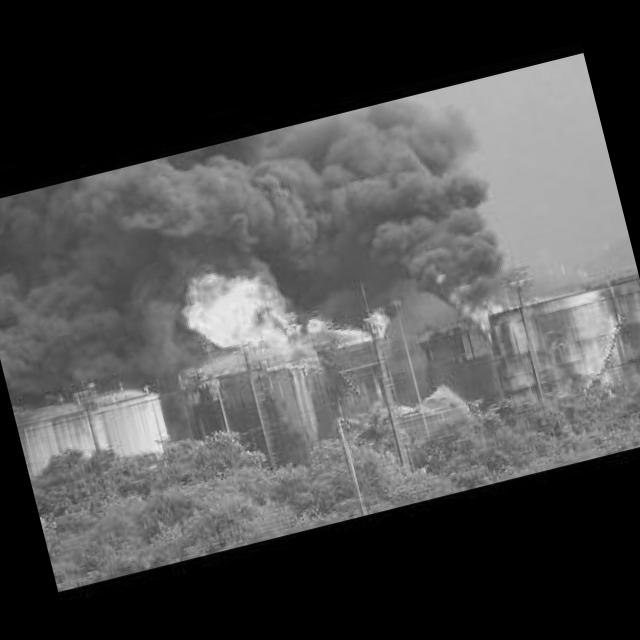fire: (168, 240, 334, 374), (435, 255, 519, 348), (362, 302, 393, 338), (525, 292, 541, 307)
smoke: (9, 74, 525, 388)
